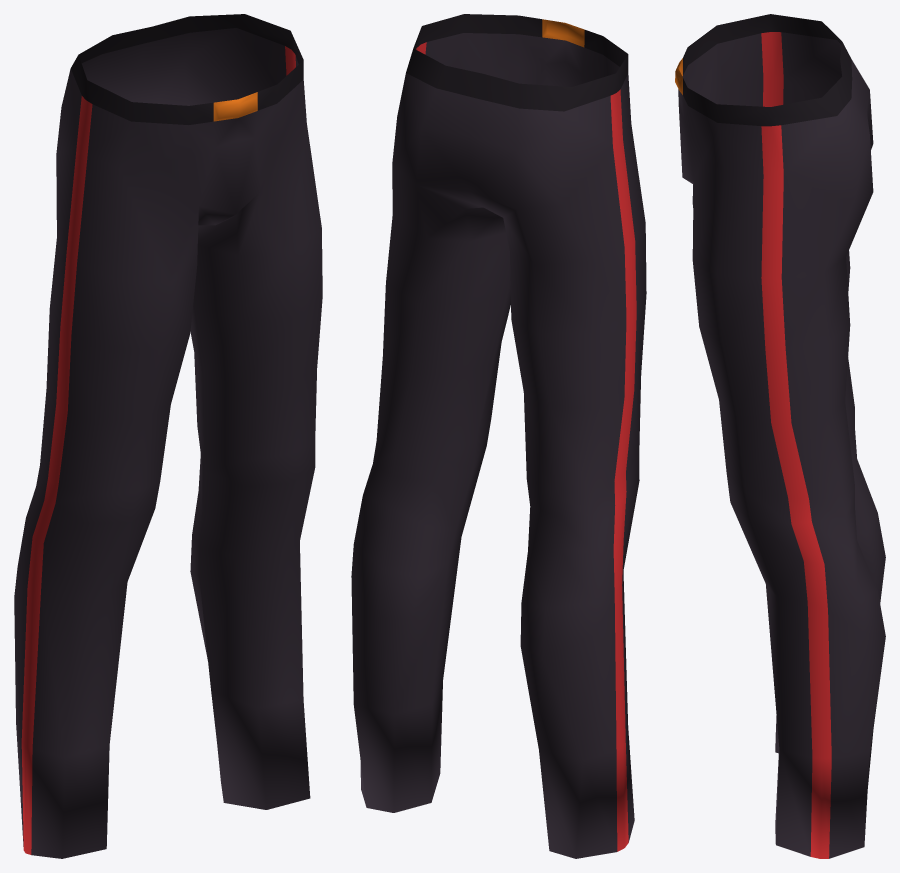
Rendered from Pants_04.fbx.
3 renders of one model, left to right at view 1: azimuth 30°, elevation 25°; view 2: azimuth 150°, elevation 25°; view 3: azimuth 270°, elevation 25°, orthographic. The views are drawn at different scales.
Parts seen in each view (by area): view 1: Pants_04; view 2: Pants_04; view 3: Pants_04.
Boxes of the visible parts, left/top/right/bottom form: Pants_04: left=14, top=14, right=322, bottom=858; Pants_04: left=351, top=14, right=646, bottom=858; Pants_04: left=675, top=14, right=885, bottom=858.
Size of the model in its own units: 41.04 by 112 by 29.08.
